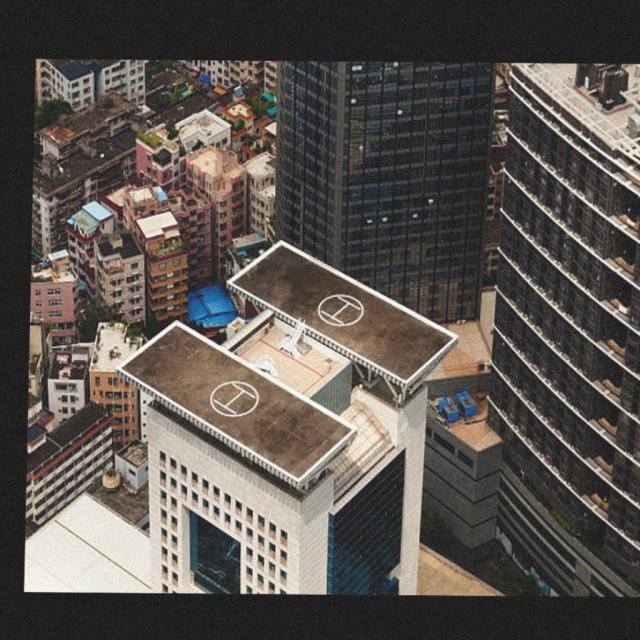helipad: (208, 378, 260, 419), (314, 290, 365, 328)
